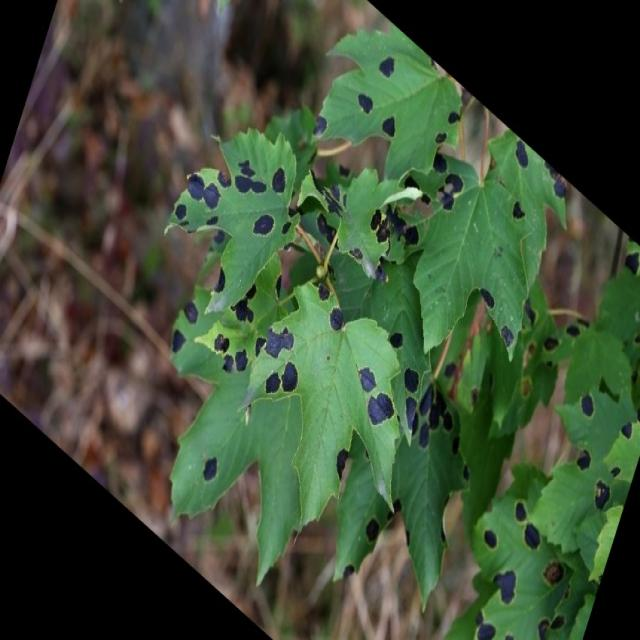Tar_Spot: (152, 148, 437, 478), (494, 358, 629, 610)
